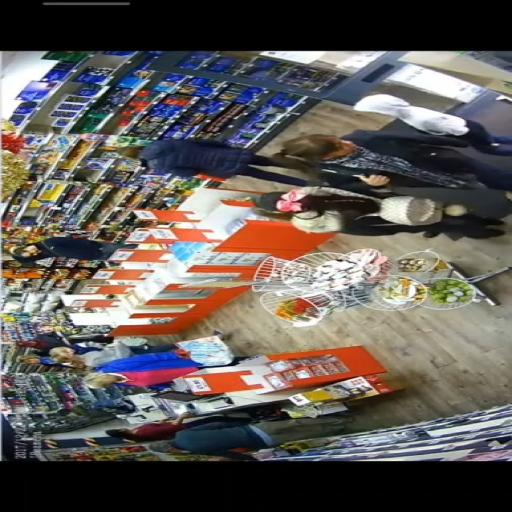workers: (84, 350, 202, 392), (48, 336, 151, 369)
